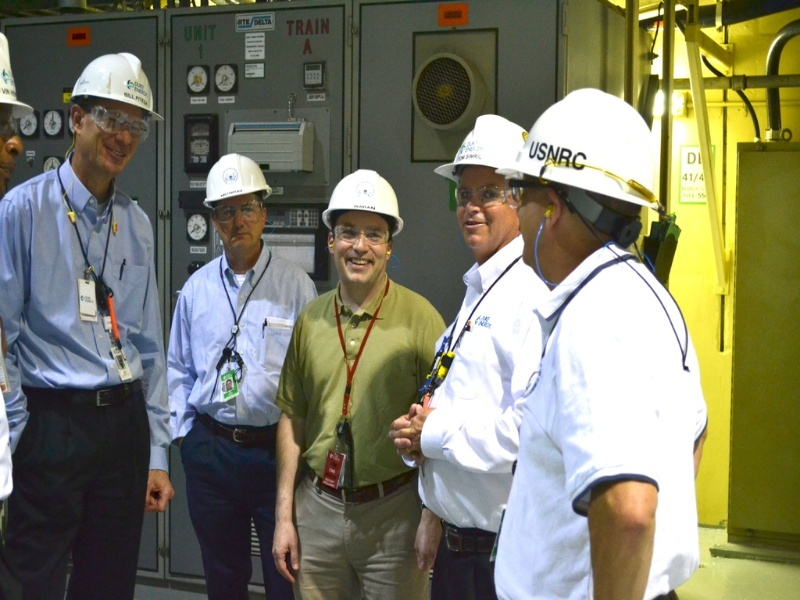Baret: (495, 86, 668, 221), (433, 111, 542, 189), (71, 49, 170, 128), (203, 149, 270, 206)
Gozluk: (90, 107, 153, 149), (206, 199, 276, 225), (327, 220, 390, 248), (452, 182, 504, 209)
